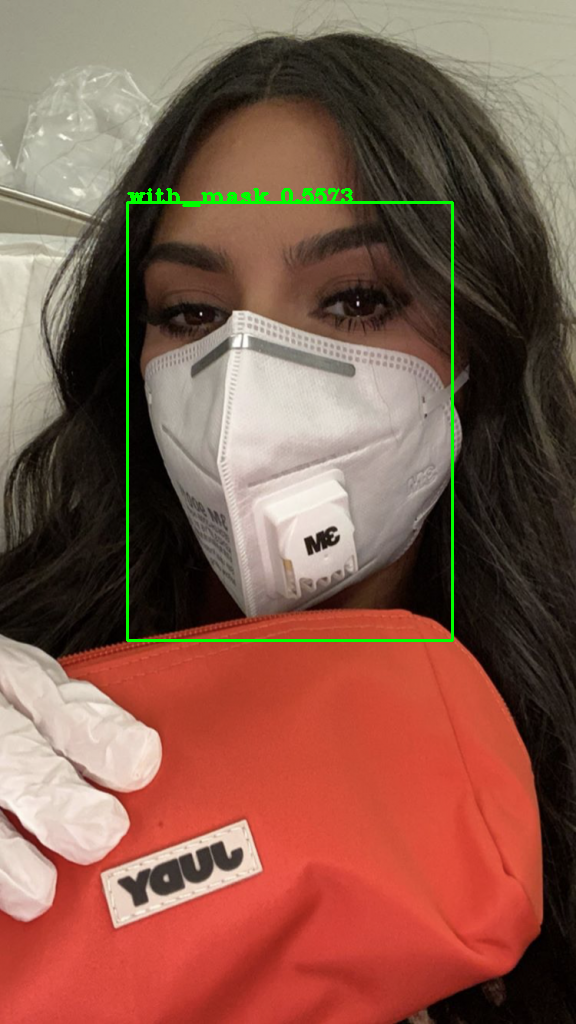with_mask: (115, 99, 503, 634)
